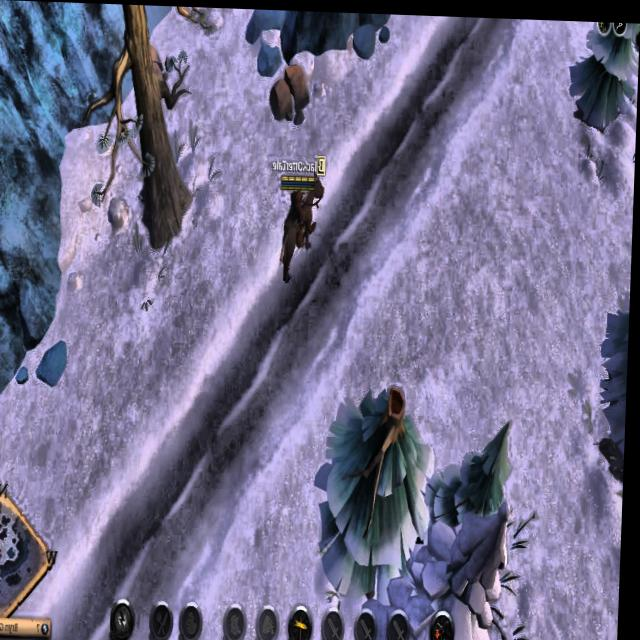limestone: (269, 54, 312, 125)
